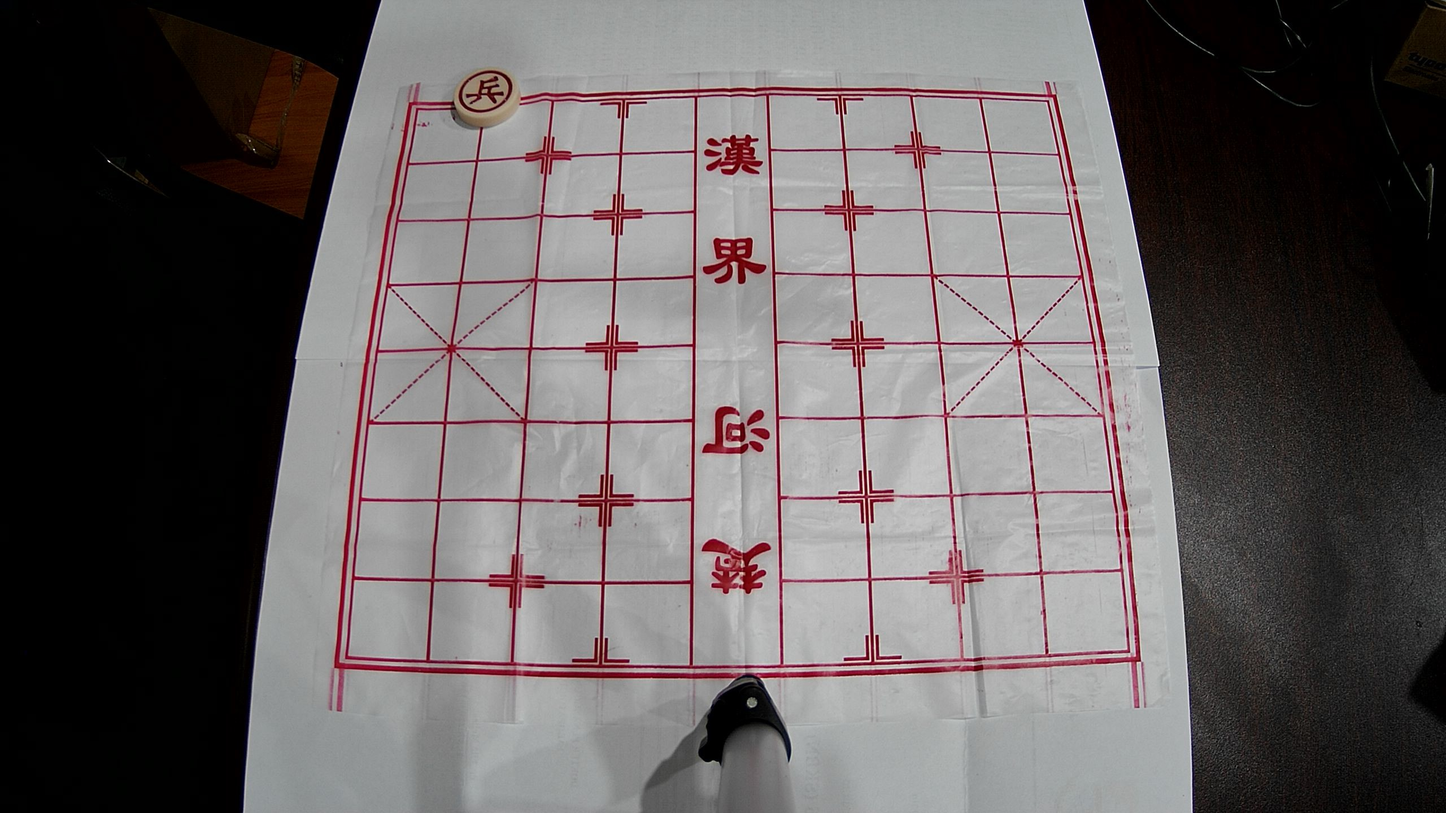Red-Soldier: (454, 67, 520, 127)
